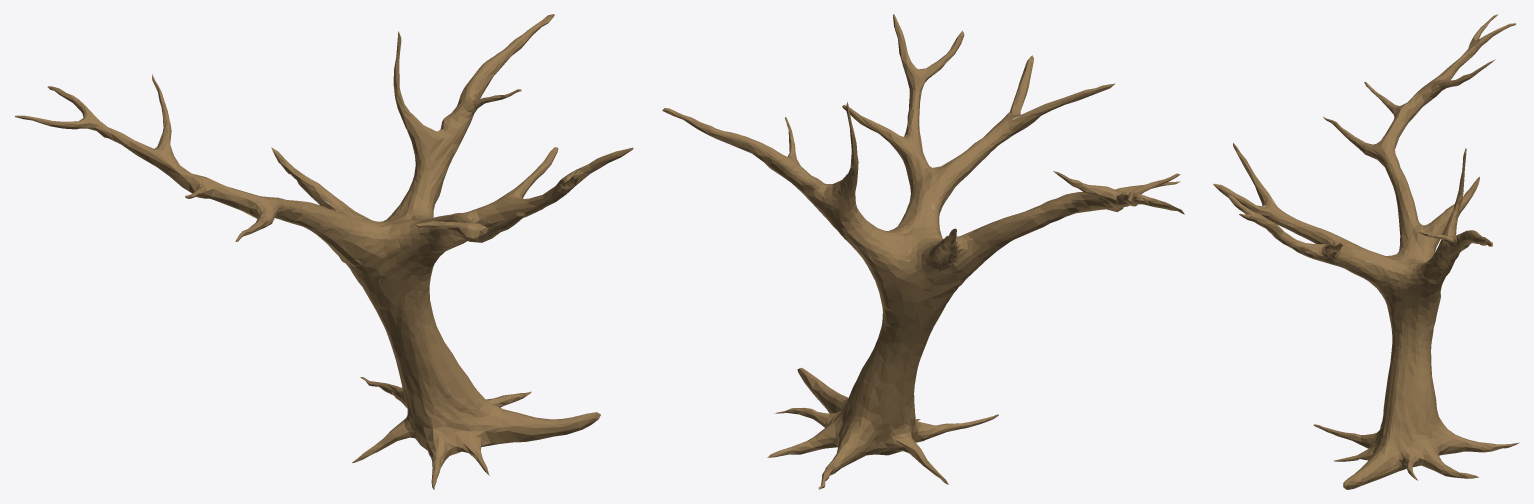
File: FTree.fbx
3 renders of one model, left to right at view 1: azimuth 30°, elevation 25°; view 2: azimuth 150°, elevation 25°; view 3: azimuth 270°, elevation 25°, orthographic. The views are drawn at different scales.
Parts seen in each view (by area): view 1: TreeLP; view 2: TreeLP; view 3: TreeLP.
Boxes of the visible parts, <box> form: TreeLP: <box>15,14,633,489</box>; TreeLP: <box>662,14,1184,489</box>; TreeLP: <box>1213,14,1519,489</box>.
Bounding box in the file's own units: 691 × 484 × 427.
